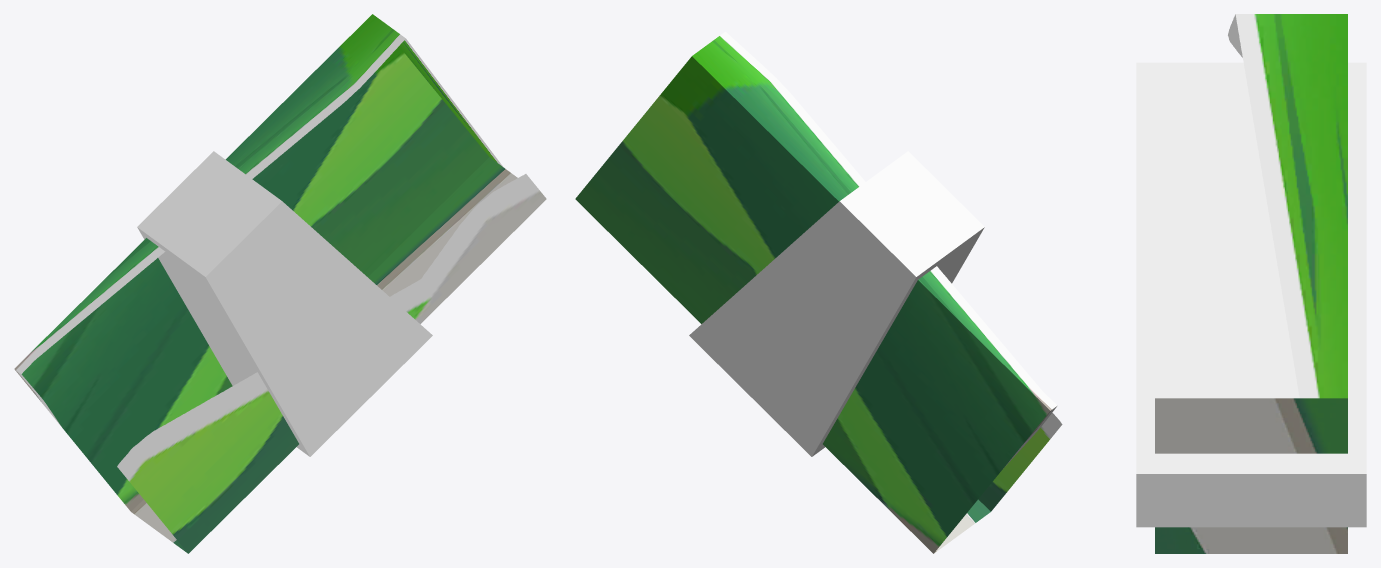
File: Collectable_Coin_19.fbx
3 renders of one model, left to right at view 1: azimuth 30°, elevation 25°; view 2: azimuth 150°, elevation 25°; view 3: azimuth 270°, elevation 25°, orthographic. The views are drawn at different scales.
Parts seen in each view (by area): view 1: MoneyStack; view 2: MoneyStack; view 3: MoneyStack.
Part boxes in pixels (x1,y1,x2,y2): MoneyStack: (14, 14, 546, 553); MoneyStack: (575, 31, 1062, 553); MoneyStack: (1136, 14, 1366, 553).
Bounding box in the file's own units: 0.7647 × 0.6749 × 0.1909.
